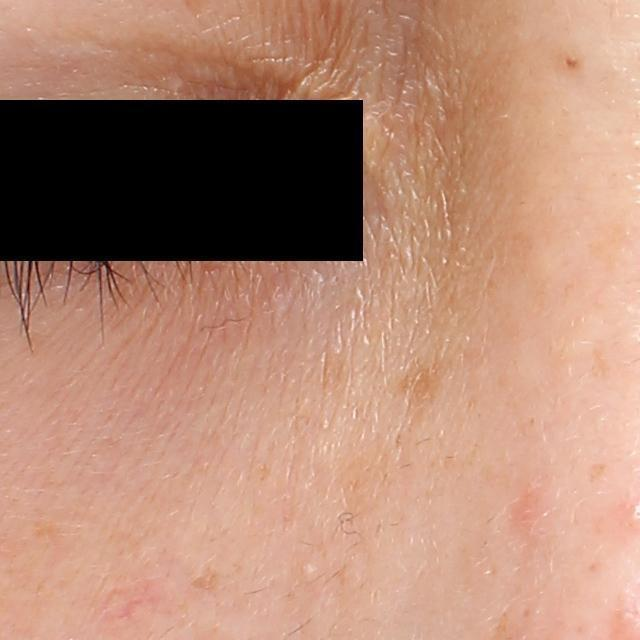comedo: (297, 560, 313, 575)
melasma: (400, 357, 447, 408), (191, 566, 224, 594)
